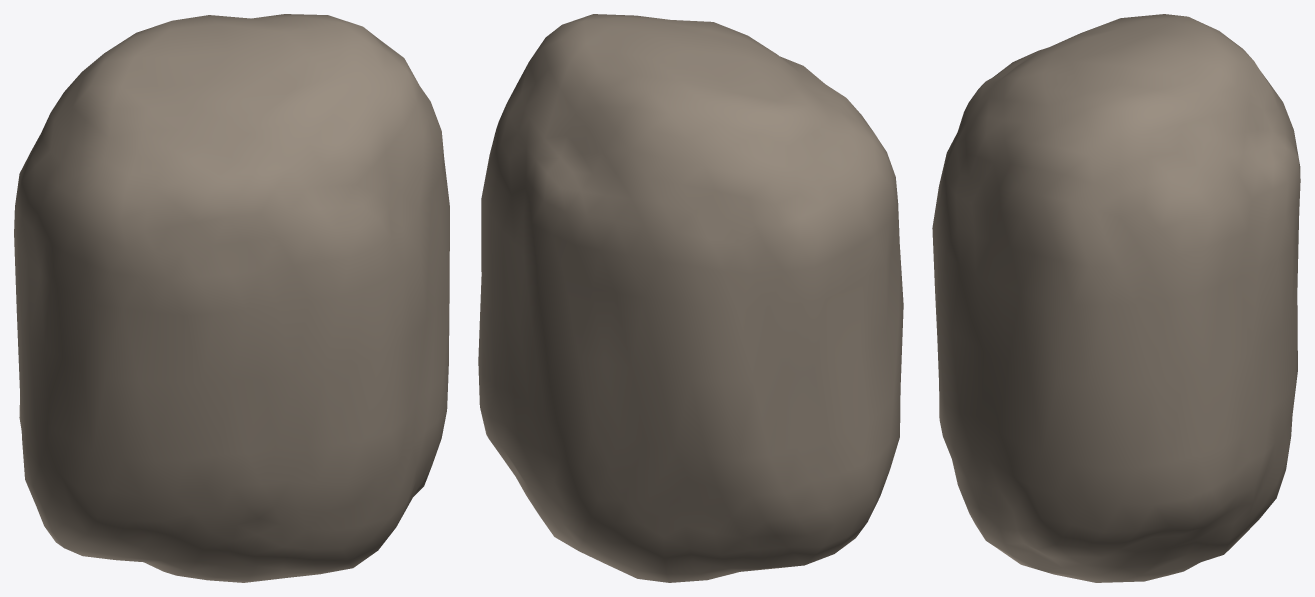
The model's file is rock_a.glb.
3 renders of one model, left to right at view 1: azimuth 30°, elevation 25°; view 2: azimuth 150°, elevation 25°; view 3: azimuth 270°, elevation 25°, orthographic. The views are drawn at different scales.
Visible parts, largest first — view 1: Rock; view 2: Rock; view 3: Rock.
Part boxes in pixels (left/top/right/bottom): Rock: left=14, top=14, right=449, bottom=582; Rock: left=478, top=14, right=903, bottom=582; Rock: left=932, top=14, right=1300, bottom=582.
Size of the model in its own units: 2.04 by 2.58 by 1.71.
